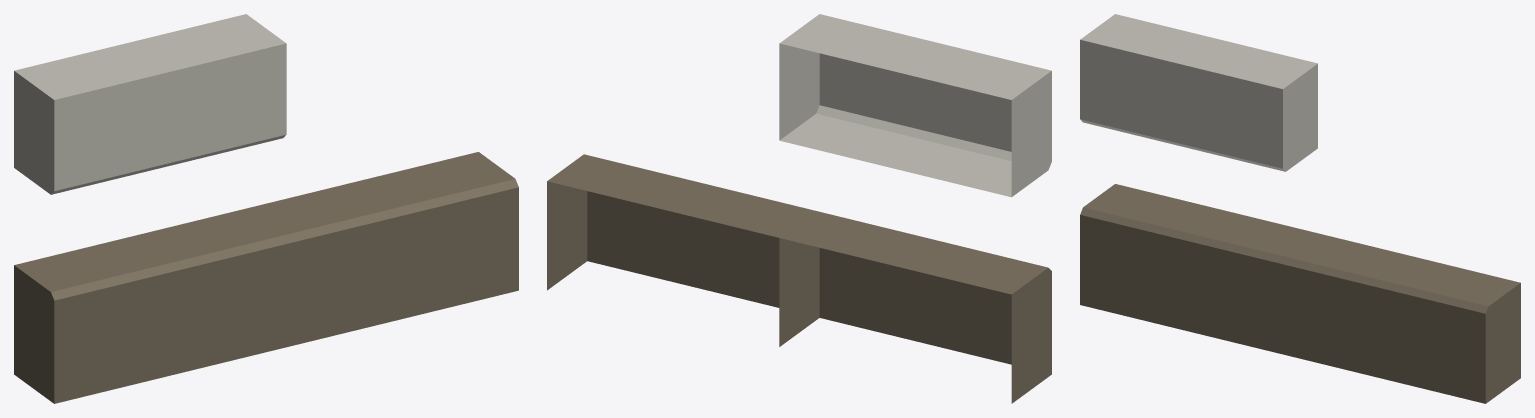
File: Cupboard.fbx
The picture shows the model from 3 angles, left to right: view 1: azimuth 30°, elevation 25°; view 2: azimuth 150°, elevation 25°; view 3: azimuth 330°, elevation 25°; orthographic projection. The views are drawn at different scales.
Visible parts, largest first — view 1: Cupboard01, Cupboard02; view 2: Cupboard01, Cupboard02; view 3: Cupboard01, Cupboard02.
Part boxes in pixels (<box>): Cupboard01: <box>14,14,286,403</box>; Cupboard02: <box>246,152,518,346</box>; Cupboard01: <box>779,14,1051,403</box>; Cupboard02: <box>547,154,819,346</box>; Cupboard01: <box>1080,14,1317,354</box>; Cupboard02: <box>1283,233,1520,403</box>.
Bounding box in the file's own units: 4 × 2.5 × 0.6.
